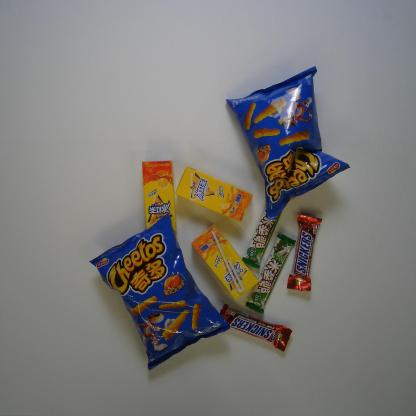Chocolate: (245, 230, 295, 315), (216, 304, 294, 353), (286, 210, 324, 295), (239, 208, 284, 268)
Drink: (190, 222, 261, 300), (174, 164, 257, 224), (141, 159, 176, 236)
Puffed Food: (87, 211, 232, 376), (221, 64, 351, 222)
